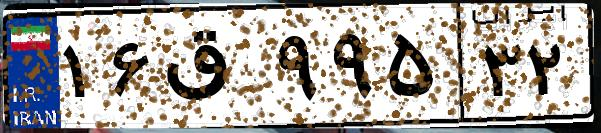1: (57, 26, 110, 100)
2: (525, 38, 570, 115)
3: (475, 38, 525, 113)
5: (385, 28, 445, 110)
6: (110, 28, 158, 98)
9: (270, 28, 330, 110), (330, 28, 385, 110)
ق: (158, 20, 270, 120)
